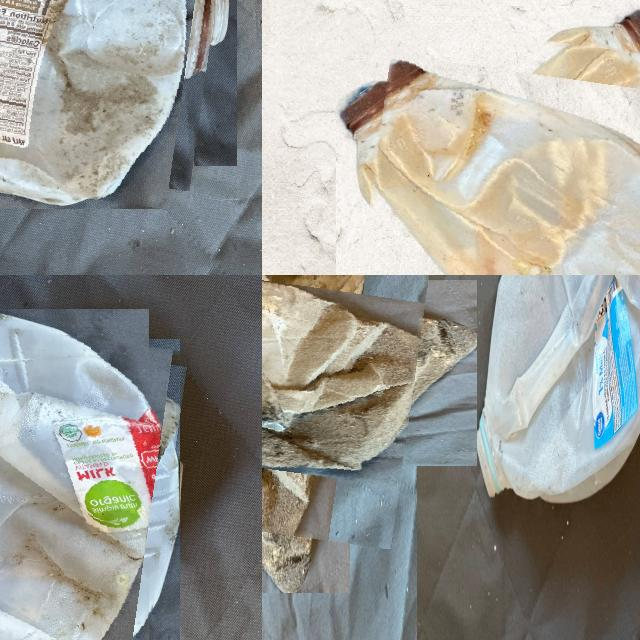milk-jug: (359, 30, 640, 275), (0, 311, 177, 640), (0, 0, 227, 199), (262, 275, 423, 539), (475, 275, 640, 508)
